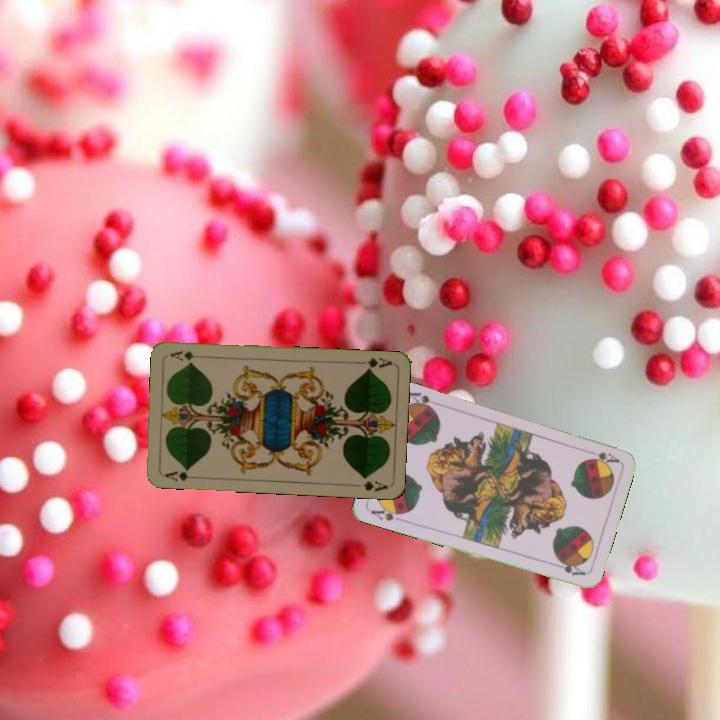GA: (354, 354, 394, 373), (160, 465, 191, 484)
SA: (366, 502, 408, 524), (587, 448, 621, 465)
